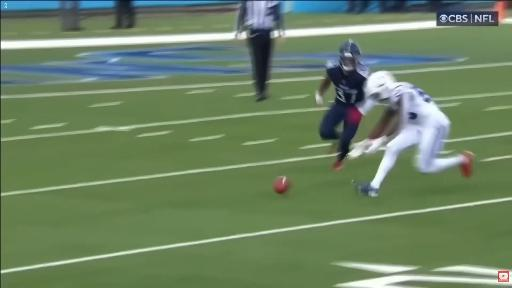Helmet: (365, 71, 396, 102), (339, 39, 361, 71)
Jersey: (390, 83, 449, 127), (326, 61, 369, 106)
Player: (354, 71, 472, 196), (316, 40, 374, 170)
